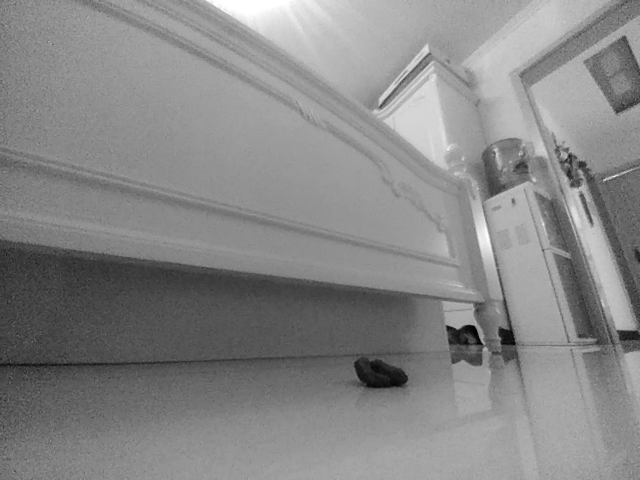pet feces: (354, 356, 407, 388)
